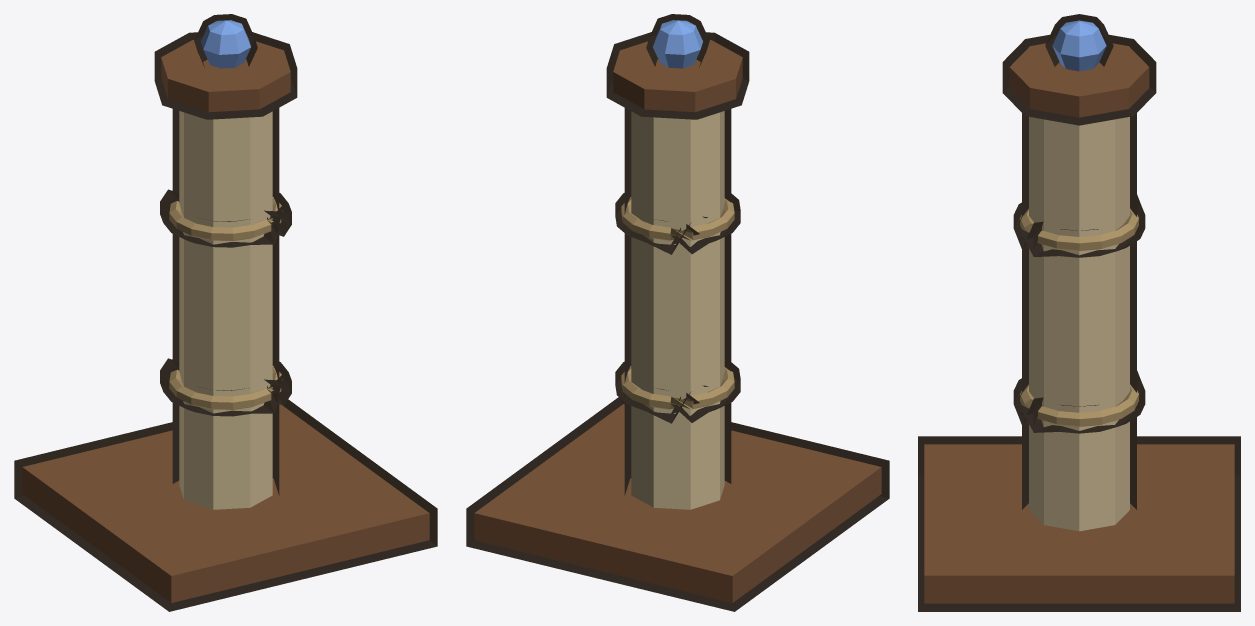
The model's file is scratcher_01.glb.
3 views of the same model, side by side, from view 1: azimuth 30°, elevation 25°; view 2: azimuth 150°, elevation 25°; view 3: azimuth 270°, elevation 25° (orthographic). The views are drawn at different scales.
Visible parts, largest first — view 1: OBJ_scratcher_01; view 2: OBJ_scratcher_01; view 3: OBJ_scratcher_01.
Part boxes in pixels (box(x1,y1,x2,y2)): OBJ_scratcher_01: box(14, 14, 437, 611); OBJ_scratcher_01: box(466, 14, 889, 611); OBJ_scratcher_01: box(918, 14, 1240, 611).
Size of the model in its own units: 0.416 by 0.7518 by 0.416.
